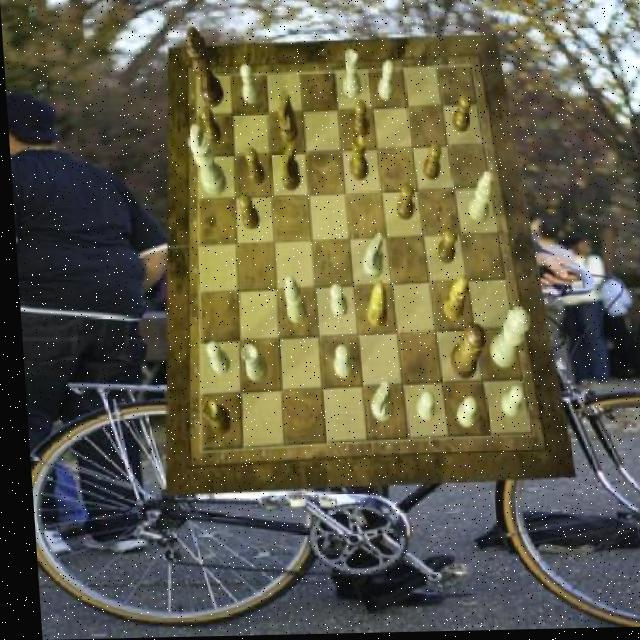bishop: (436, 277, 466, 323), (361, 283, 385, 329)
black-bishop: (185, 27, 223, 109)
black-king: (275, 92, 296, 145), (275, 146, 298, 192)
black-knight: (200, 107, 222, 146), (450, 95, 472, 134), (419, 145, 441, 183), (242, 148, 263, 186), (433, 231, 455, 266), (236, 194, 258, 229), (350, 101, 368, 140), (392, 186, 411, 222)
black-pawn: (443, 324, 483, 382)
black-queen: (196, 398, 226, 436), (346, 136, 366, 183)
black-rook: (463, 173, 493, 226), (279, 278, 303, 326)
white-bishop: (185, 124, 224, 197)
white-king: (357, 235, 382, 281), (365, 385, 390, 425)
white-knight: (493, 388, 518, 421), (203, 341, 227, 375), (241, 67, 260, 107), (376, 62, 395, 102), (450, 398, 473, 431), (329, 346, 348, 381), (326, 284, 344, 318), (412, 393, 431, 424)
white-pawn: (483, 310, 529, 370)
white-queen: (237, 345, 264, 383), (340, 51, 360, 100)
